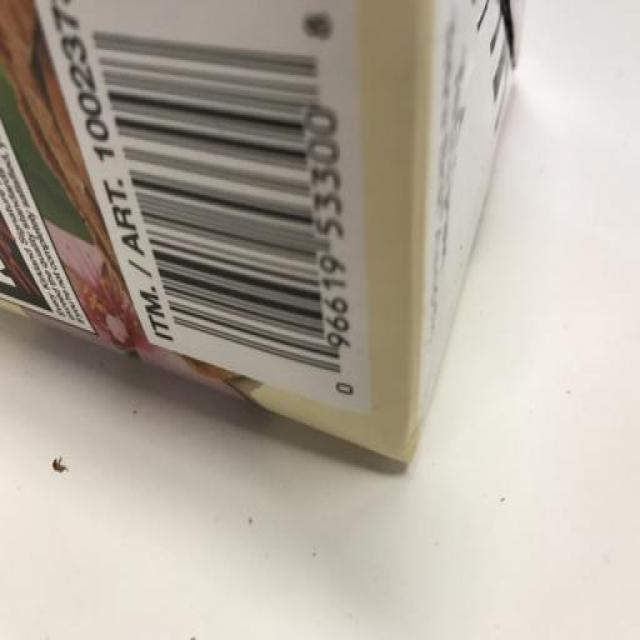cardboard: (1, 1, 498, 449)
